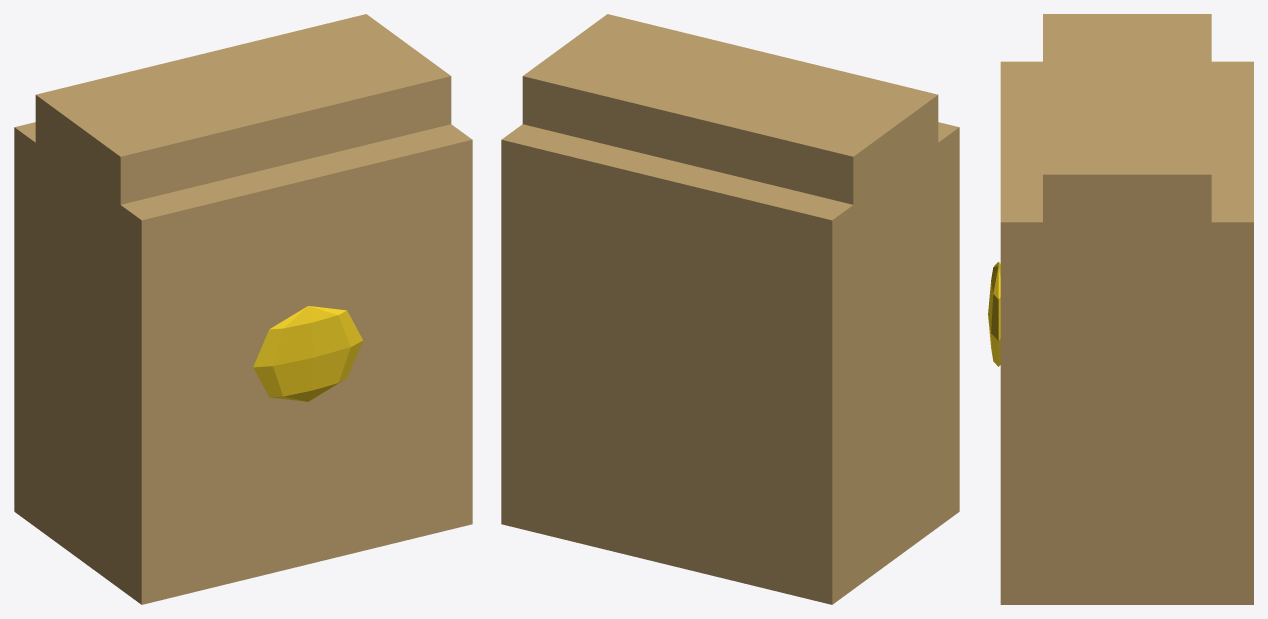
Rendered from carwash_birdseed.glb.
The picture shows the model from 3 angles, left to right: view 1: azimuth 30°, elevation 25°; view 2: azimuth 150°, elevation 25°; view 3: azimuth 270°, elevation 25°; orthographic projection.
Visible parts, largest first — view 1: bag_seed_paper, fold_seed_paper, bird_seed_bird; view 2: bag_seed_paper, fold_seed_paper; view 3: bag_seed_paper, fold_seed_paper, bird_seed_bird.
Part boxes in pixels (bbox=[...]): bag_seed_paper: bbox=[14, 122, 472, 604]; fold_seed_paper: bbox=[35, 14, 451, 212]; bird_seed_bird: bbox=[253, 306, 363, 401]; bag_seed_paper: bbox=[501, 122, 959, 604]; fold_seed_paper: bbox=[522, 14, 938, 211]; bag_seed_paper: bbox=[1000, 61, 1253, 604]; fold_seed_paper: bbox=[1043, 14, 1211, 231]; bird_seed_bird: bbox=[988, 261, 1000, 366].
Size of the model in its own units: 0.18 by 0.225 by 0.126.
